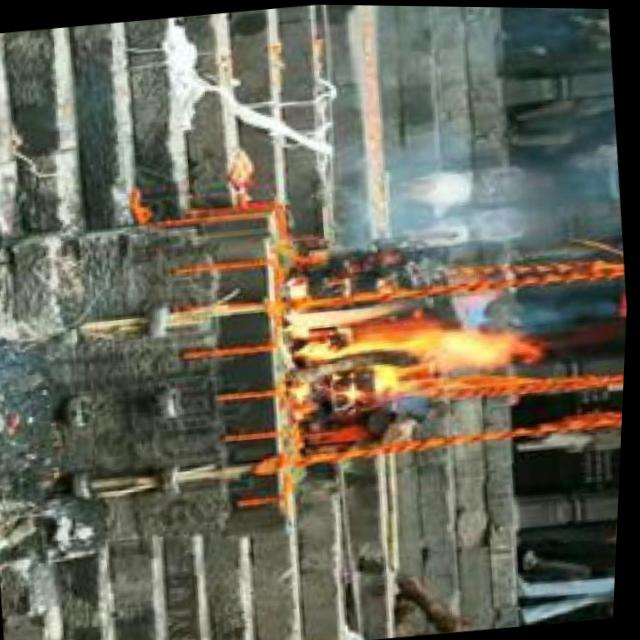Fire: (281, 278, 544, 412)
